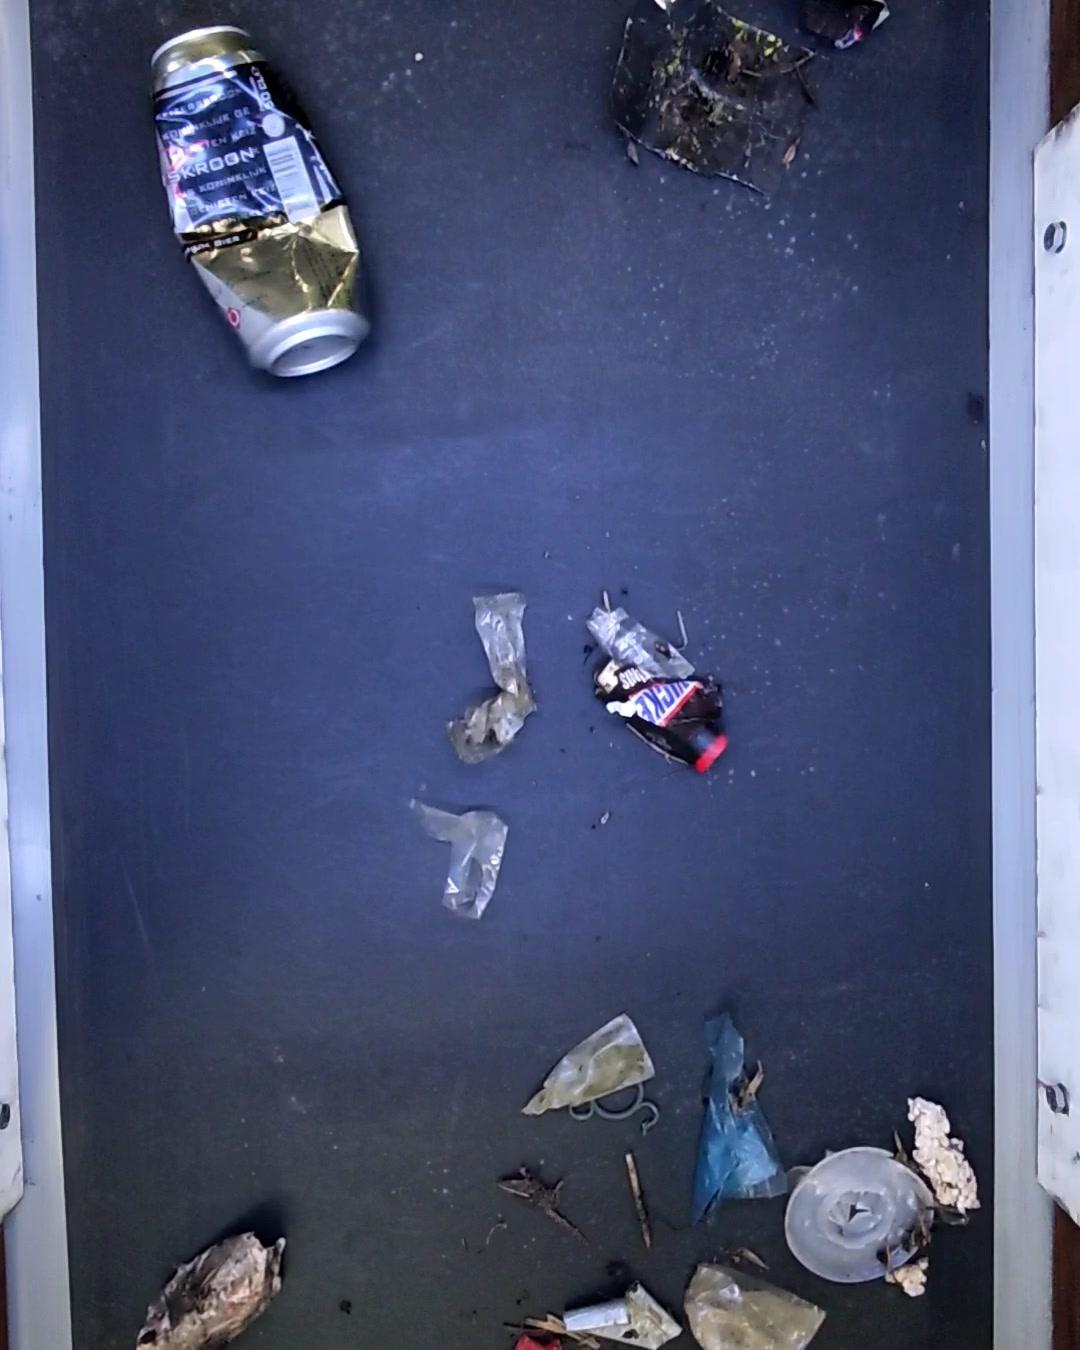Drankblikjes: (151, 25, 376, 381)
Plastic folies of stukken daarvan 2.5- 50 cm: (689, 1017, 788, 1229), (455, 584, 534, 764), (687, 1255, 831, 1350), (521, 1013, 656, 1112), (419, 798, 512, 918), (592, 595, 692, 685)
Snoep snack en chips verpakkingen: (591, 657, 739, 774)
